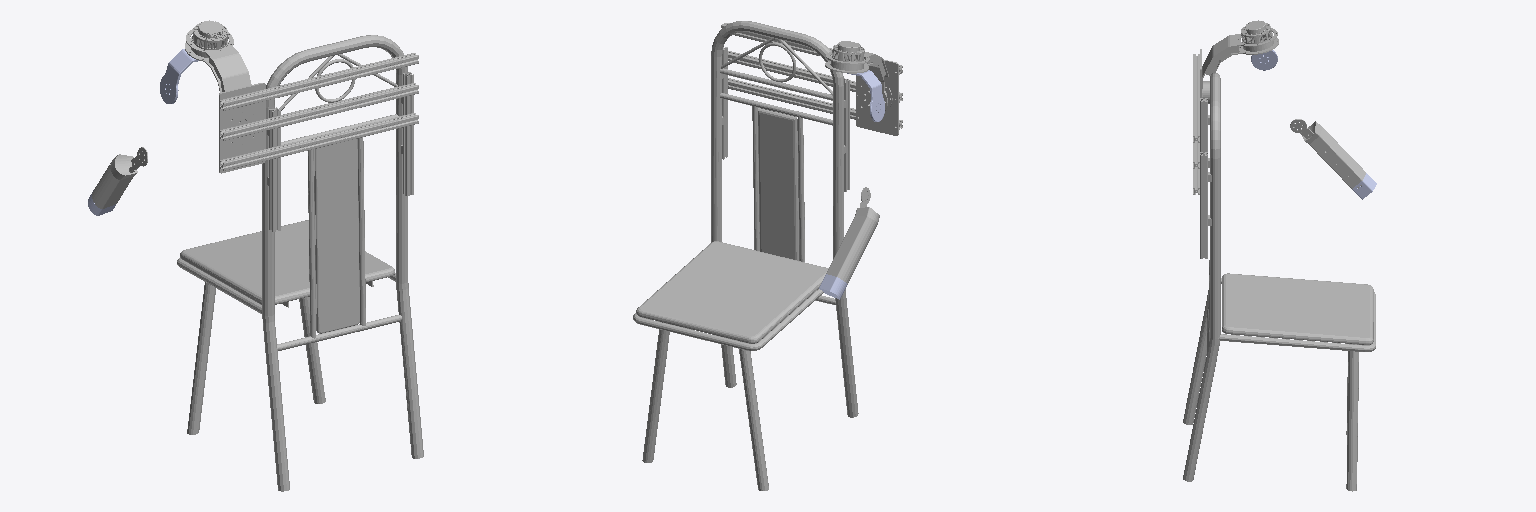
The robot description file, URDF, robot "rehab_robot_ver2":
<?xml version="1.0" encoding="utf-8"?>
<!-- This URDF was automatically created by SolidWorks to URDF Exporter! Originally created by Stephen Brawner (brawner@gmail.com) 
     Commit Version: 1.6.0-4-g7f85cfe  Build Version: 1.6.7995.38578
     For more information, please see http://wiki.ros.org/sw_urdf_exporter -->
<robot
  name="rehab_robot_ver2">
    <!-- Dummy root link to satisfy KDL -->
  <link name="base_footprint"/>

  <joint name="base_footprint_to_base_link" type="fixed">
    <parent link="base_footprint"/>
    <child link="base_link"/>
    <origin xyz="0 0 0" rpy="0 0 0"/>
  </joint>

  <link
    name="base_link">
    <inertial>
      <origin
        xyz="0.24189 0.12514 -0.38484"
        rpy="0 0 0" />
      <mass
        value="6.6731" />
      <inertia
        ixx="0.29283"
        ixy="-1.4901E-05"
        ixz="2.4376E-05"
        iyy="0.31539"
        iyz="0.022379"
        izz="0.15732" />
    </inertial>
    <visual>
      <origin
        xyz="0 0 0"
        rpy="0 0 0" />
      <geometry>
        <mesh
          filename="package://rehab_robot_ver2/meshes/base_link.STL" />
      </geometry>
      <material
        name="">
        <color
          rgba="0.75294 0.75294 0.75294 1" />
      </material>
    </visual>
    <collision>
      <origin
        xyz="0 0 0"
        rpy="0 0 0" />
      <geometry>
        <mesh
          filename="package://rehab_robot_ver2/meshes/base_link.STL" />
      </geometry>
    </collision>
  </link>
  <link
    name="shoulder_link">
    <inertial>
      <origin
        xyz="-0.060369 -1.7958E-12 -0.036849"
        rpy="0 0 0" />
      <mass
        value="0.06547" />
      <inertia
        ixx="0.00010552"
        ixy="5.102E-20"
        ixz="-7.374E-05"
        iyy="0.00018777"
        iyz="1.8635E-20"
        izz="0.0001159" />
    </inertial>
    <visual>
      <origin
        xyz="0 0 0"
        rpy="0 0 0" />
      <geometry>
        <mesh
          filename="package://rehab_robot_ver2/meshes/shoulder_link.STL" />
      </geometry>
      <material
        name="">
        <color
          rgba="0.79216 0.81961 0.93333 1" />
      </material>
    </visual>
    <collision>
      <origin
        xyz="0 0 0"
        rpy="0 0 0" />
      <geometry>
        <mesh
          filename="package://rehab_robot_ver2/meshes/shoulder_link.STL" />
      </geometry>
    </collision>
  </link>
  <joint
    name="base_joint"
    type="revolute">
    <origin
      xyz="0 0.12249 0.13463"
      rpy="0.17453 0 0" />
    <parent
      link="base_link" />
    <child
      link="shoulder_link" />
    <axis
      xyz="0 0 1" />
    <limit
      lower="-1.57"
      upper="0"
      effort="0"
      velocity="0" />
  </joint>
  <link
    name="upper_arm_link">
    <inertial>
      <origin
        xyz="-0.079145 0.008564 0.015419"
        rpy="0 0 0" />
      <mass
        value="1.5832" />
      <inertia
        ixx="0.0019452"
        ixy="0.0004682"
        ixz="-0.00022867"
        iyy="0.0033308"
        iyz="1.8435E-05"
        izz="0.0048906" />
    </inertial>
    <visual>
      <origin
        xyz="0 0 0"
        rpy="0 0 0" />
      <geometry>
        <mesh
          filename="package://rehab_robot_ver2/meshes/upper_arm_link.STL" />
      </geometry>
      <material
        name="">
        <color
          rgba="0.75294 0.75294 0.75294 1" />
      </material>
    </visual>
    <collision>
      <origin
        xyz="0 0 0"
        rpy="0 0 0" />
      <geometry>
        <mesh
          filename="package://rehab_robot_ver2/meshes/upper_arm_link.STL" />
      </geometry>
    </collision>
  </link>
  <joint
    name="shoulder_joint"
    type="revolute">
    <origin
      xyz="-0.098298 0 -0.082481"
      rpy="0 -1.3963 0" />
    <parent
      link="shoulder_link" />
    <child
      link="upper_arm_link" />
    <axis
      xyz="0 0 1" />
    <limit
      lower="-0.4"
      upper="1.2"
      effort="0"
      velocity="0" />
  </joint>
  <link
    name="lower_arm_link">
    <inertial>
      <origin
        xyz="-0.12194 0.00020078 -0.0040585"
        rpy="0 0 0" />
      <mass
        value="0.18858" />
      <inertia
        ixx="8.9494E-05"
        ixy="1.6186E-06"
        ixz="-0.00013362"
        iyy="0.00063311"
        iyz="5.6467E-07"
        izz="0.0006346" />
    </inertial>
    <visual>
      <origin
        xyz="0 0 0"
        rpy="0 0 0" />
      <geometry>
        <mesh
          filename="package://rehab_robot_ver2/meshes/lower_arm_link.STL" />
      </geometry>
      <material
        name="">
        <color
          rgba="0.75294 0.75294 0.75294 1" />
      </material>
    </visual>
    <collision>
      <origin
        xyz="0 0 0"
        rpy="0 0 0" />
      <geometry>
        <mesh
          filename="package://rehab_robot_ver2/meshes/lower_arm_link.STL" />
      </geometry>
    </collision>
  </link>
  <joint
    name="elbow_joint"
    type="revolute">
    <origin
      xyz="-0.21365 0.052456 -0.021"
      rpy="0 0 -0.59619" />
    <parent
      link="upper_arm_link" />
    <child
      link="lower_arm_link" />
    <axis
      xyz="0 0 1" />
    <limit
      lower="-1.57"
      upper="0"
      effort="0"
      velocity="0" />
  </joint>
  <link
    name="end_effector">
    <inertial>
      <origin
        xyz="5.5511E-17 0.0057075 0.018727"
        rpy="0 0 0" />
      <mass
        value="0.08604" />
      <inertia
        ixx="2.9211E-05"
        ixy="1.2917E-20"
        ixz="1.6941E-21"
        iyy="2.7277E-05"
        iyz="7.159E-08"
        izz="3.5412E-05" />
    </inertial>
    <visual>
      <origin
        xyz="0 0 0"
        rpy="0 0 0" />
      <geometry>
        <mesh
          filename="package://rehab_robot_ver2/meshes/end_effector.STL" />
      </geometry>
      <material
        name="">
        <color
          rgba="0.79216 0.81961 0.93333 1" />
      </material>
    </visual>
    <collision>
      <origin
        xyz="0 0 0"
        rpy="0 0 0" />
      <geometry>
        <mesh
          filename="package://rehab_robot_ver2/meshes/end_effector.STL" />
      </geometry>
    </collision>
  </link>
  <joint
    name="wrist_joint"
    type="fixed">
    <origin
      xyz="-0.26313 0 -0.040415"
      rpy="1.309 0 1.5708" />
    <parent
      link="lower_arm_link" />
    <child
      link="end_effector" />
    <axis
      xyz="0 0 0" />
  </joint>
</robot>

--- What the picture shows (computed from the rendered views, not written in the file) ---
3 views of the same robot in one strip: view 1: azimuth 30°, elevation 25°; view 2: azimuth 150°, elevation 25°; view 3: azimuth 270°, elevation 25° (orthographic).
Model rehab_robot_ver2 with 6 links and 5 joints (3 revolute, 2 fixed), rooted at base_footprint, posed all joints at 0.
Visible links, largest first — view 1: base_link, lower_arm_link, shoulder_link; view 2: base_link, lower_arm_link, shoulder_link; view 3: base_link, lower_arm_link.
Boxes of the visible links, box(x1,y1,x2,y2) form: base_link: box(177, 20, 423, 491); lower_arm_link: box(92, 147, 147, 208); shoulder_link: box(160, 49, 198, 103); base_link: box(633, 21, 902, 490); lower_arm_link: box(826, 187, 879, 283); shoulder_link: box(847, 70, 884, 121); base_link: box(1183, 20, 1375, 491); lower_arm_link: box(1290, 119, 1365, 188).
Bounding box of the posed robot: 0.6248 × 0.5084 × 1.15 m (x, y, z).
4 mesh visuals loaded from 5 distinct referenced files (4 binary STL); not drawn: 1 (reference not matched to a file when rendering).
